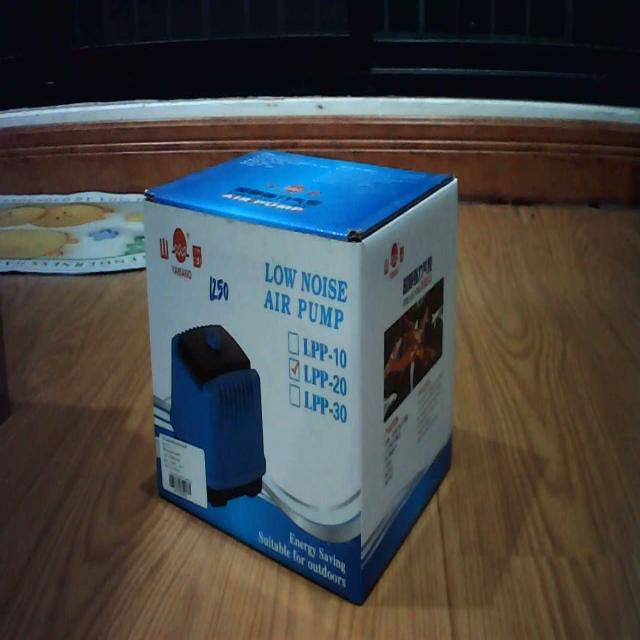YAMANO_LPP_20: (133, 132, 463, 620)
